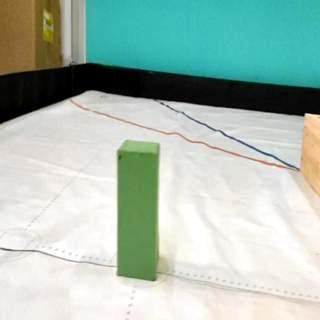greenbox: (117, 139, 160, 281)
